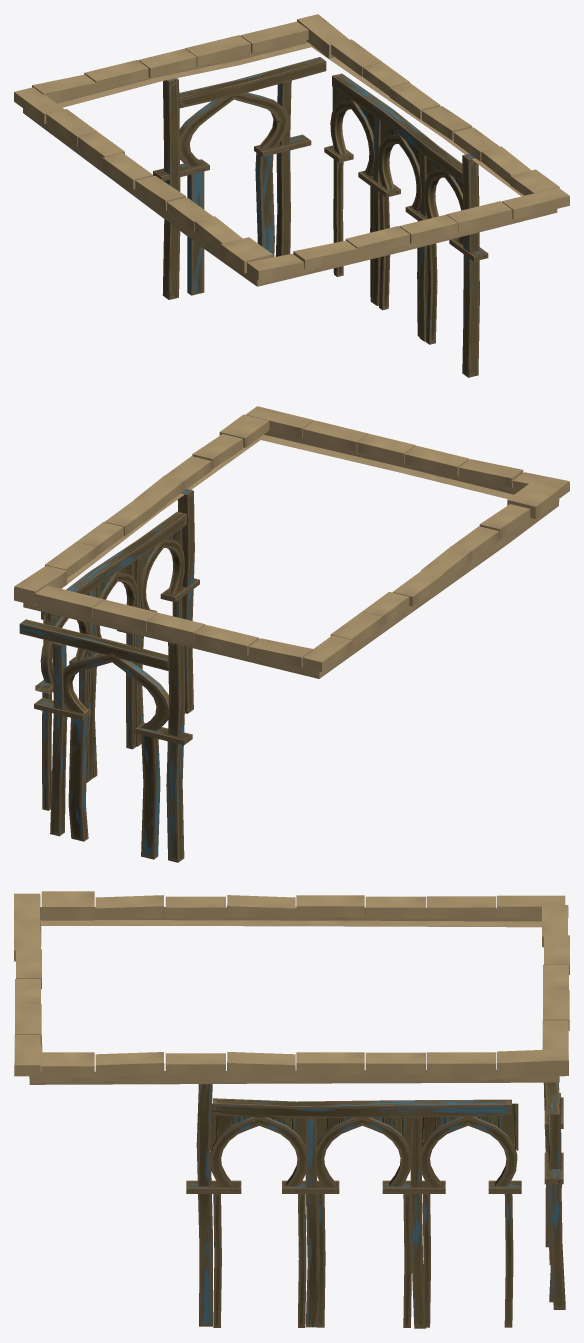
Rendered from A_Medium_BuildingBlock_G_KitPart.FBX.
3 views of the same model, one above another, from view 1: azimuth 30°, elevation 25°; view 2: azimuth 150°, elevation 25°; view 3: azimuth 270°, elevation 25° (orthographic). The views are drawn at different scales.
Parts seen in each view (by area): view 1: A_Medium_BuildingBlock_G_KitPart; view 2: A_Medium_BuildingBlock_G_KitPart; view 3: A_Medium_BuildingBlock_G_KitPart.
Part boxes in pixels (x1,y1,x2,y2): A_Medium_BuildingBlock_G_KitPart: (14, 14, 569, 377); A_Medium_BuildingBlock_G_KitPart: (14, 406, 569, 862); A_Medium_BuildingBlock_G_KitPart: (14, 891, 569, 1328).
Size of the model in its own units: 550 by 405 by 750.
Materials: 1 (1 with a texture image).
